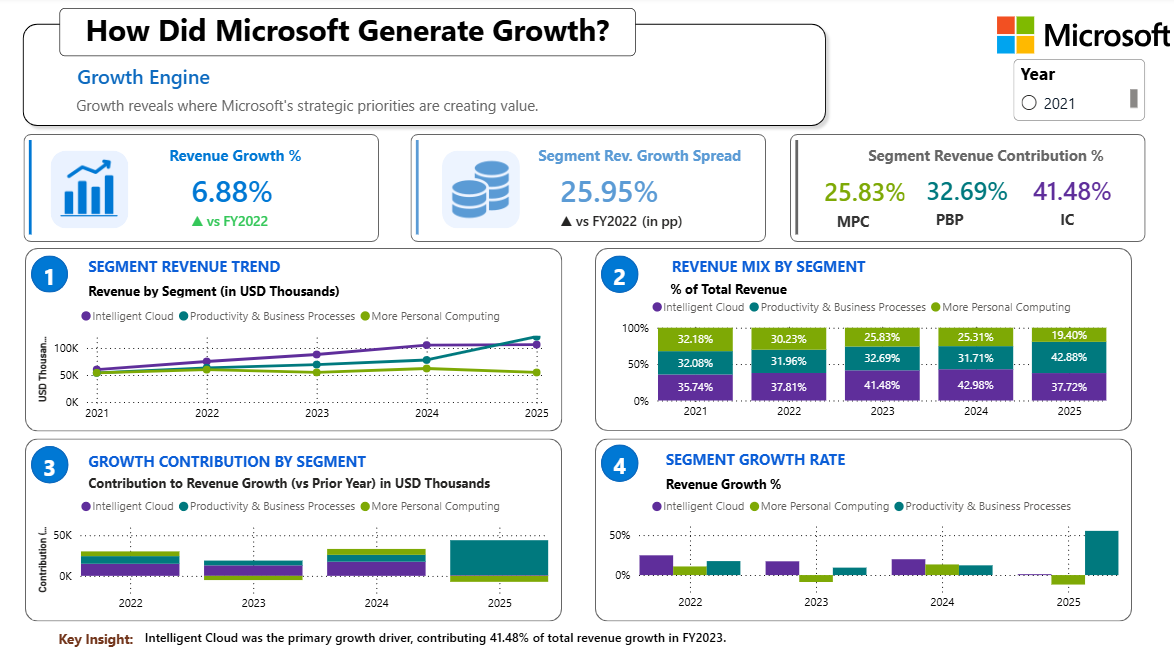

What the dashboard file says about the page in this screenshot:
{"tool":"powerbi","page":{"name":"Growth Engine","canvas":[1280,720],"ordinal":1},"visuals":[{"type":"group","id":"g1","title":"Group 8","box":[20,13.4,881.7,135],"z":0},{"type":"shape","box":[20,23.4,881.7,125],"z":0,"group":"g1"},{"type":"shape","box":[29,478,579.7,197.5],"z":0,"group":"g8"},{"type":"textbox","box":[67,13.4,621.8,51.8],"z":1000,"group":"g1"},{"type":"image","box":[1079,20,188,45],"z":1000},{"type":"shape","box":[28.8,149.1,383.8,116.6],"z":1000,"group":"g2"},{"type":"shape","box":[446.2,149.1,383.8,116.6],"z":1000,"group":"g6"},{"type":"listSlicer","fields":{"Values":["Income Statement.Year"]},"box":[1096.5,68.4,142.1,66.7],"z":2000},{"type":"group","id":"g2","title":"Group 1","box":[8.8,149.1,403.5,119.3],"z":3000},{"type":"cardVisual","title":"Revenue (USD Mn)","fields":{"Data":["Income Statement.Revenue Growth %"]},"box":[180.5,172.8,183,69.6],"z":3000,"group":"g2"},{"type":"textbox","box":[67,66.8,181.4,42.1],"z":4000,"group":"g1"},{"type":"shape","box":[855.1,149.1,383.8,116.6],"z":4000,"group":"g7"},{"type":"group","id":"g3","title":"Group 3","box":[29.8,272,580,198],"z":4000},{"type":"textbox","box":[80,101.7,550,33.3],"z":5000,"group":"g1"},{"type":"textbox","box":[180.5,155,218.6,32.4],"z":5000,"group":"g2"},{"type":"shape","box":[835.1,155.6,53.4,102],"z":5000,"group":"g7"},{"type":"group","id":"g4","title":"Group 5","box":[644.5,272,579.7,197.5],"z":5000},{"type":"columnChart","fields":{"Category":["Segment Revenue.Year"],"Y":["Segment Revenue.Cloud Growth Contribution","Segment Revenue.PBP Growth Contribution","Segment Revenue.MPC Growth Contribution"]},"box":[37.1,532,561.9,142],"z":5000,"group":"g8"},{"type":"cardVisual","fields":{"Data":["Income Statement.Revenue Growth Indicator P2"]},"box":[180.5,214.9,197.5,53.4],"z":6000,"group":"g2"},{"type":"shape","box":[35.5,485.4,40.5,40.5],"z":6000,"group":"g8"},{"type":"cardVisual","fields":{"Data":["Balance Sheet.Key Insight - Growth Engine"]},"box":[128.8,662.7,818.6,57.6],"z":6000},{"type":"shape","box":[8.8,155,53.4,102],"z":7000,"group":"g2"},{"type":"shape","box":[426.3,155.6,53.4,102],"z":7000,"group":"g6"},{"type":"cardVisual","title":"Revenue (USD Mn)","fields":{"Data":["Segment Revenue.MPC Revenue Contribution %"]},"box":[863.1,175,166.8,69.6],"z":7000,"group":"g7"},{"type":"group","id":"g5","title":"Group 2","box":[643.9,477.2,580.7,196.5],"z":7000},{"type":"textbox","box":[91.5,485.4,356.2,38.9],"z":7000,"group":"g8"},{"type":"group","id":"g6","title":"Group 6","box":[426.3,149.1,403.5,119.3],"z":8000},{"type":"cardVisual","title":"Revenue (USD Mn)","fields":{"Data":["Segment Revenue.PBP Revenue Contribution %"]},"box":[973.3,173.4,147.3,69.6],"z":8000,"group":"g7"},{"type":"textbox","box":[92.1,509.7,446.9,32.4],"z":8000,"group":"g8"},{"type":"group","id":"g7","title":"Group 7","box":[835.1,149.1,403.5,115.8],"z":9000},{"type":"cardVisual","title":"Revenue (USD Mn)","fields":{"Data":["Segment Revenue.Segment Growth Spread %"]},"box":[579,173.4,183,69.6],"z":9000,"group":"g6"},{"type":"cardVisual","title":"Revenue (USD Mn)","fields":{"Data":["Segment Revenue.Cloud Revenue Contribution %"]},"box":[1088.2,173.4,150.6,69.6],"z":9000,"group":"g7"},{"type":"textbox","box":[934.4,155.6,288.2,38.9],"z":10000,"group":"g7"},{"type":"textbox","box":[690.3,226.7,59.9,30.8],"z":10000,"group":"g6"},{"type":"group","id":"g8","title":"Group 9","box":[29,478,579.7,197.5],"z":10000},{"type":"cardVisual","fields":{"Data":["Income Statement.Revenue Growth Indicator P2"]},"box":[579,215.5,197.5,53.4],"z":11000,"group":"g6"},{"type":"textbox","box":[900.4,226.8,66.4,34],"z":11000,"group":"g7"},{"type":"textbox","box":[60,679,95,33],"z":11000},{"type":"textbox","box":[579,155.6,238,32.4],"z":12000,"group":"g6"},{"type":"shape","box":[57.5,166.4,84.2,84.2],"z":12000,"group":"g2"},{"type":"textbox","box":[1007.3,225.7,45.3,33],"z":12000,"group":"g7"},{"type":"shape","box":[480.2,166.9,84.2,84.2],"z":13000,"group":"g6"},{"type":"image","box":[60.7,174.5,76.1,64.8],"z":13000,"group":"g2"},{"type":"textbox","box":[1141.7,225.2,30.8,35.6],"z":13000,"group":"g7"},{"type":"image","box":[483.4,176.6,76.1,64.8],"z":14000,"group":"g6"},{"type":"group","id":"g9","title":"Group 10","box":[643.9,477.2,579.7,197.5],"z":14002,"group":"g5"},{"type":"shape","box":[29.8,272,580,198],"z":22000,"group":"g10"},{"type":"textbox","box":[92.9,302.8,320.6,38.9],"z":23000,"group":"g10"},{"type":"lineChart","title":"Segment Revenue Trend","fields":{"Category":["Segment Revenue.Year"],"Y":["Sum(Segment Revenue.Intelligent Cloud)","Sum(Segment Revenue.Productivity and Business Processes)","Sum(Segment Revenue.More Personal Computing)"]},"box":[37.3,326.2,561.9,142.5],"z":24000,"group":"g10"},{"type":"textbox","box":[92.9,275.2,263.9,32],"z":25000,"group":"g10"},{"type":"shape","box":[36.3,280.1,40,40],"z":26000,"group":"g10"},{"type":"shape","box":[644.5,272,579.7,197.5],"z":27000,"group":"g4"},{"type":"hundredPercentStackedColumnChart","fields":{"Category":["Segment Revenue.Year"],"Y":["Segment Revenue.Cloud Revenue Contribution %","Segment Revenue.PBP Revenue Contribution %","Segment Revenue.MPC Revenue Contribution %"]},"box":[667.2,316.2,534.3,150.6],"z":28000,"group":"g4"},{"type":"shape","box":[651,280.1,40.5,40.5],"z":29000,"group":"g4"},{"type":"textbox","box":[722.2,275.2,225.1,38.9],"z":30000,"group":"g4"},{"type":"textbox","box":[720.6,301.2,147.3,29],"z":31000,"group":"g4"},{"type":"shape","box":[643.9,477.2,579.7,197.5],"z":36000,"group":"g9"},{"type":"shape","box":[650.4,483.7,40.5,40.5],"z":37000,"group":"g9"},{"type":"clusteredColumnChart","fields":{"Category":["Segment Revenue.Year"],"Y":["Segment Revenue.Cloud Growth %","Segment Revenue.MPC Growth %","Segment Revenue.PBP Growth %"]},"box":[653.6,530.6,560.3,140.9],"z":38000,"group":"g9"},{"type":"textbox","box":[715.1,483.7,356.2,38.9],"z":40000,"group":"g9"},{"type":"group","id":"g10","title":"Group 4","box":[29.8,272,580,198],"z":40004,"group":"g3"},{"type":"textbox","box":[715.1,511.2,356.2,29.1],"z":40500,"group":"g9"}]}

Visuals, with their boxes in screenshot pixels (x1, y1, x2, y2), scaled from the page's 1280x720 canvas onto the 1174x655 screenshot:
"Group 8" group: x1=18, y1=12, x2=827, y2=135
shape: x1=18, y1=21, x2=827, y2=135
shape: x1=27, y1=435, x2=558, y2=615
textbox: x1=61, y1=12, x2=632, y2=59
image: x1=990, y1=18, x2=1162, y2=59
shape: x1=26, y1=136, x2=378, y2=242
shape: x1=409, y1=136, x2=761, y2=242
listSlicer - Income Statement.Year: x1=1006, y1=62, x2=1136, y2=123
"Group 1" group: x1=8, y1=136, x2=378, y2=244
"Revenue (USD Mn)" cardVisual: x1=166, y1=157, x2=333, y2=221
textbox: x1=61, y1=61, x2=228, y2=99
shape: x1=784, y1=136, x2=1136, y2=242
"Group 3" group: x1=27, y1=247, x2=559, y2=428
textbox: x1=73, y1=93, x2=578, y2=123
textbox: x1=166, y1=141, x2=366, y2=170
shape: x1=766, y1=142, x2=815, y2=234
"Group 5" group: x1=591, y1=247, x2=1123, y2=427
columnChart - Segment Revenue.Year x Segment Revenue.Cloud Growth Contribution: x1=34, y1=484, x2=549, y2=613
cardVisual - Income Statement.Revenue Growth Indicator P2: x1=166, y1=195, x2=347, y2=244
shape: x1=33, y1=442, x2=70, y2=478
cardVisual - Balance Sheet.Key Insight - Growth Engine: x1=118, y1=603, x2=869, y2=654
shape: x1=8, y1=141, x2=57, y2=234
shape: x1=391, y1=142, x2=440, y2=234
"Revenue (USD Mn)" cardVisual: x1=792, y1=159, x2=945, y2=223
"Group 2" group: x1=591, y1=434, x2=1123, y2=613
textbox: x1=84, y1=442, x2=411, y2=477
"Group 6" group: x1=391, y1=136, x2=761, y2=244
"Revenue (USD Mn)" cardVisual: x1=893, y1=158, x2=1028, y2=221
textbox: x1=84, y1=464, x2=494, y2=493
"Group 7" group: x1=766, y1=136, x2=1136, y2=241
"Revenue (USD Mn)" cardVisual: x1=531, y1=158, x2=699, y2=221
"Revenue (USD Mn)" cardVisual: x1=998, y1=158, x2=1136, y2=221
textbox: x1=857, y1=142, x2=1121, y2=177
textbox: x1=633, y1=206, x2=688, y2=234
"Group 9" group: x1=27, y1=435, x2=558, y2=615
cardVisual - Income Statement.Revenue Growth Indicator P2: x1=531, y1=196, x2=712, y2=245
textbox: x1=826, y1=206, x2=887, y2=237
textbox: x1=55, y1=618, x2=142, y2=648
textbox: x1=531, y1=142, x2=749, y2=171
shape: x1=53, y1=151, x2=130, y2=228
textbox: x1=924, y1=205, x2=965, y2=235
shape: x1=440, y1=152, x2=518, y2=228
image: x1=56, y1=159, x2=125, y2=218
textbox: x1=1047, y1=205, x2=1075, y2=237
image: x1=443, y1=161, x2=513, y2=220
"Group 10" group: x1=591, y1=434, x2=1122, y2=614
shape: x1=27, y1=247, x2=559, y2=428
textbox: x1=85, y1=275, x2=379, y2=311
"Segment Revenue Trend" lineChart: x1=34, y1=297, x2=550, y2=426
textbox: x1=85, y1=250, x2=327, y2=279
shape: x1=33, y1=255, x2=70, y2=291
shape: x1=591, y1=247, x2=1123, y2=427
hundredPercentStackedColumnChart - Segment Revenue.Year x Segment Revenue.Cloud Revenue Contribution %: x1=612, y1=288, x2=1102, y2=425
shape: x1=597, y1=255, x2=634, y2=292
textbox: x1=662, y1=250, x2=869, y2=286
textbox: x1=661, y1=274, x2=796, y2=300
shape: x1=591, y1=434, x2=1122, y2=614
shape: x1=597, y1=440, x2=634, y2=477
clusteredColumnChart - Segment Revenue.Year x Segment Revenue.Cloud Growth %: x1=599, y1=483, x2=1113, y2=611
textbox: x1=656, y1=440, x2=983, y2=475
"Group 4" group: x1=27, y1=247, x2=559, y2=428
textbox: x1=656, y1=465, x2=983, y2=492
